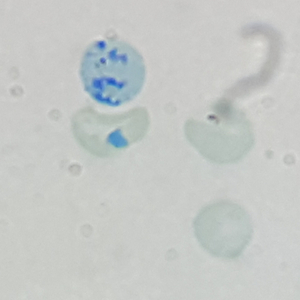aggregate reticulocyte: (78, 38, 148, 108)
erythrocyte: (182, 100, 257, 166), (68, 105, 154, 160), (190, 200, 254, 260)
